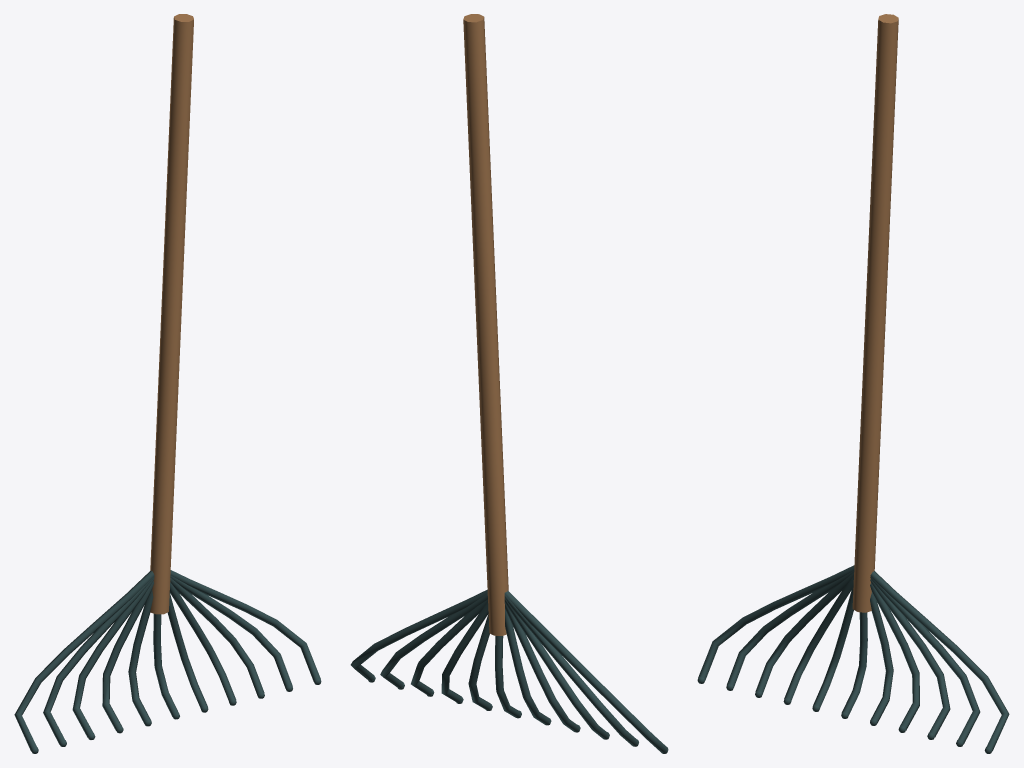
File: almanac-gardens-leaf-rake-1283521b__22085.glb
3 renders of one model, left to right at view 1: azimuth 30°, elevation 25°; view 2: azimuth 150°, elevation 25°; view 3: azimuth 330°, elevation 25°, orthographic. The views are drawn at different scales.
Visible parts, largest first — view 1: leaf-rake-iron, leaf-rake-oak; view 2: leaf-rake-oak, leaf-rake-iron; view 3: leaf-rake-iron, leaf-rake-oak.
Part boxes in pixels (x1,y1,x2,y2): leaf-rake-iron: [14, 570, 321, 753]; leaf-rake-oak: [150, 14, 193, 614]; leaf-rake-oak: [463, 14, 508, 635]; leaf-rake-iron: [350, 589, 668, 753]; leaf-rake-iron: [697, 565, 1009, 753]; leaf-rake-oak: [852, 14, 898, 612].
Bounding box in the file's own units: 0.5756 × 1.29 × 0.085.
